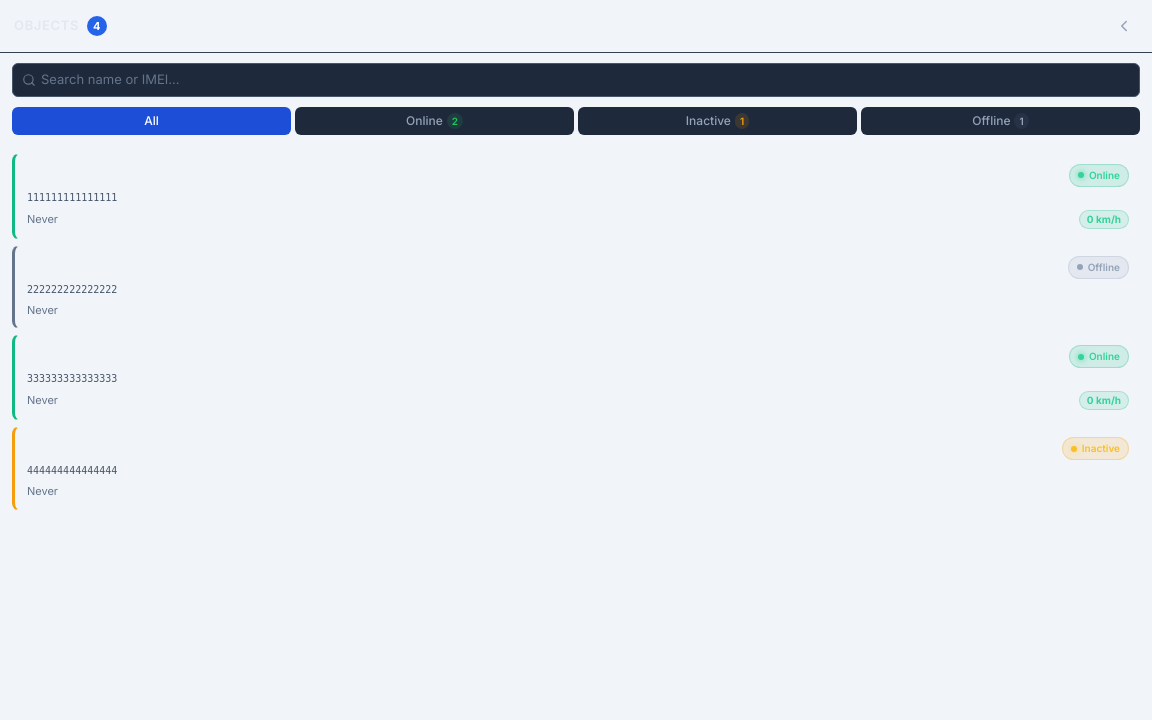
Test: DeviceListPanel › renders empty state when no devices match filter
The image size is (1152, 720).
Type "zzz-no-match" into the field with placeholder "Search name or IMEI…" at (576, 80), box [12,63,1140,96]
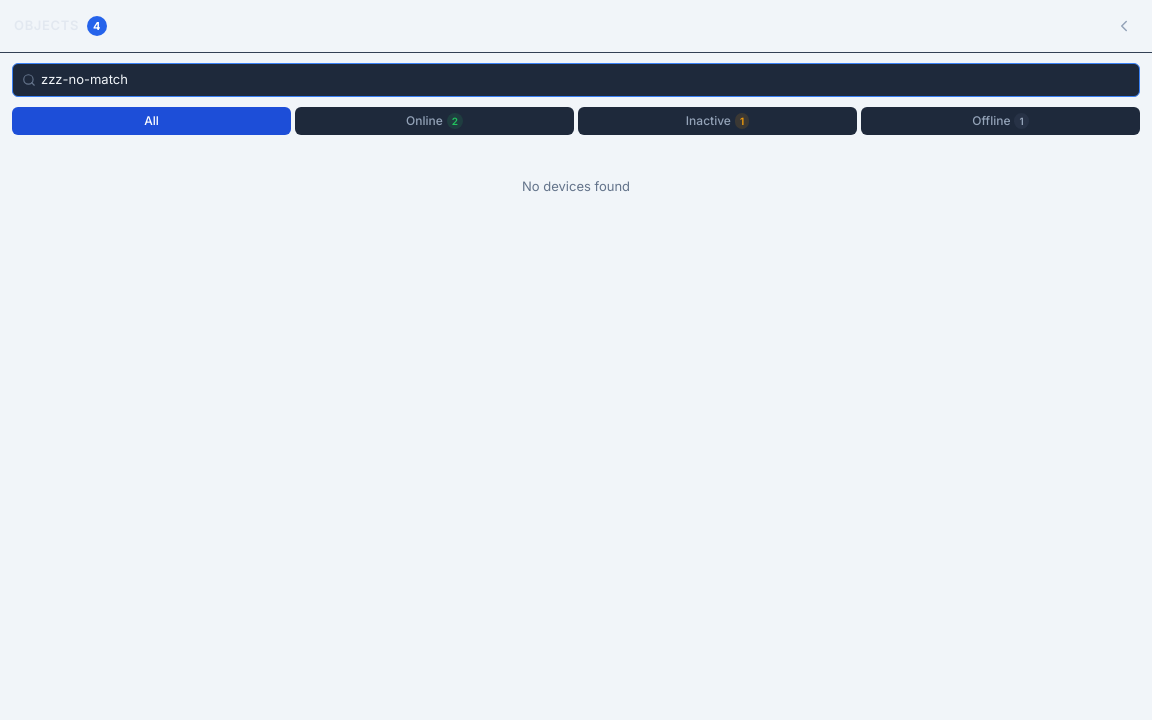
Expected: the list item "No devices found" is shown, [522,178,630,194]
